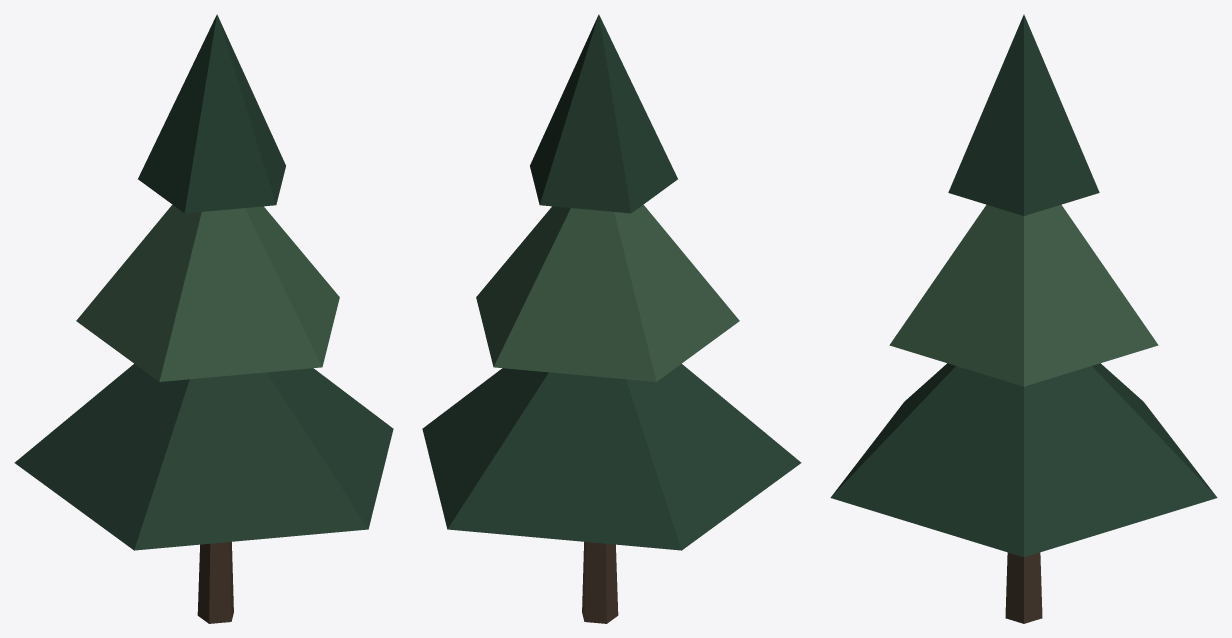
The model's file is tree_pine_01_lod2.glb.
3 renders of one model, left to right at view 1: azimuth 30°, elevation 25°; view 2: azimuth 150°, elevation 25°; view 3: azimuth 270°, elevation 25°, orthographic.
Visible parts, largest first — view 1: tree_pine_01_lod2; view 2: tree_pine_01_lod2; view 3: tree_pine_01_lod2.
Part boxes in pixels (bbox=[...]): tree_pine_01_lod2: bbox=[14, 14, 393, 623]; tree_pine_01_lod2: bbox=[422, 14, 801, 623]; tree_pine_01_lod2: bbox=[830, 14, 1217, 623].
Size of what is drawn, in the model's own units: 4.16 by 7.5 by 4.37.
Materials: 1 (1 with a texture image).
